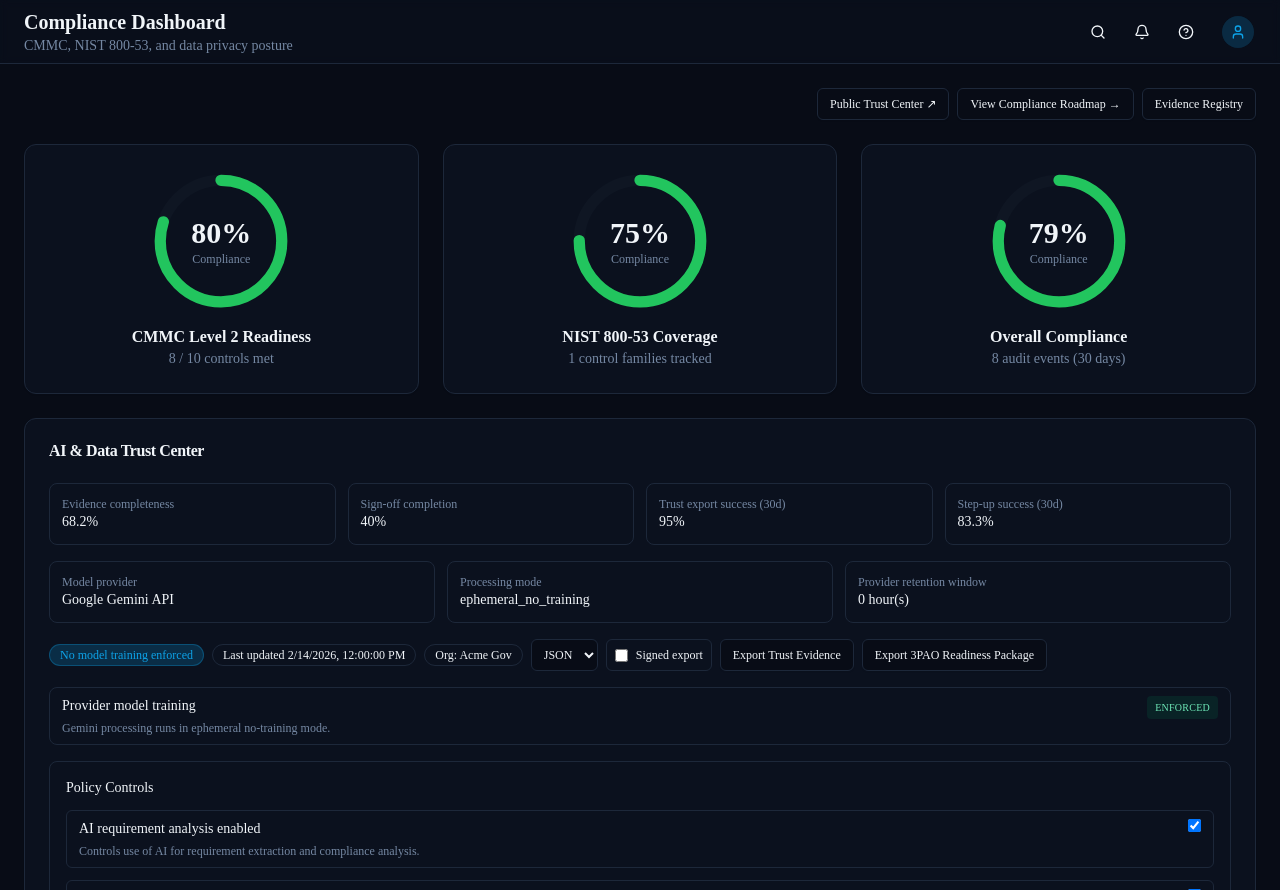
it: CompliancePage › updates trust center policy controls for admins
The width and height of the screenshot is (1280, 890).
expect the heading "AI & Data Trust Center" is shown: met, box left=49, top=442, right=204, bottom=459
Click the checkbox named "AI requirement analysis toggle" at [1194, 826], box left=1188, top=819, right=1201, bottom=832
(page scrolled)
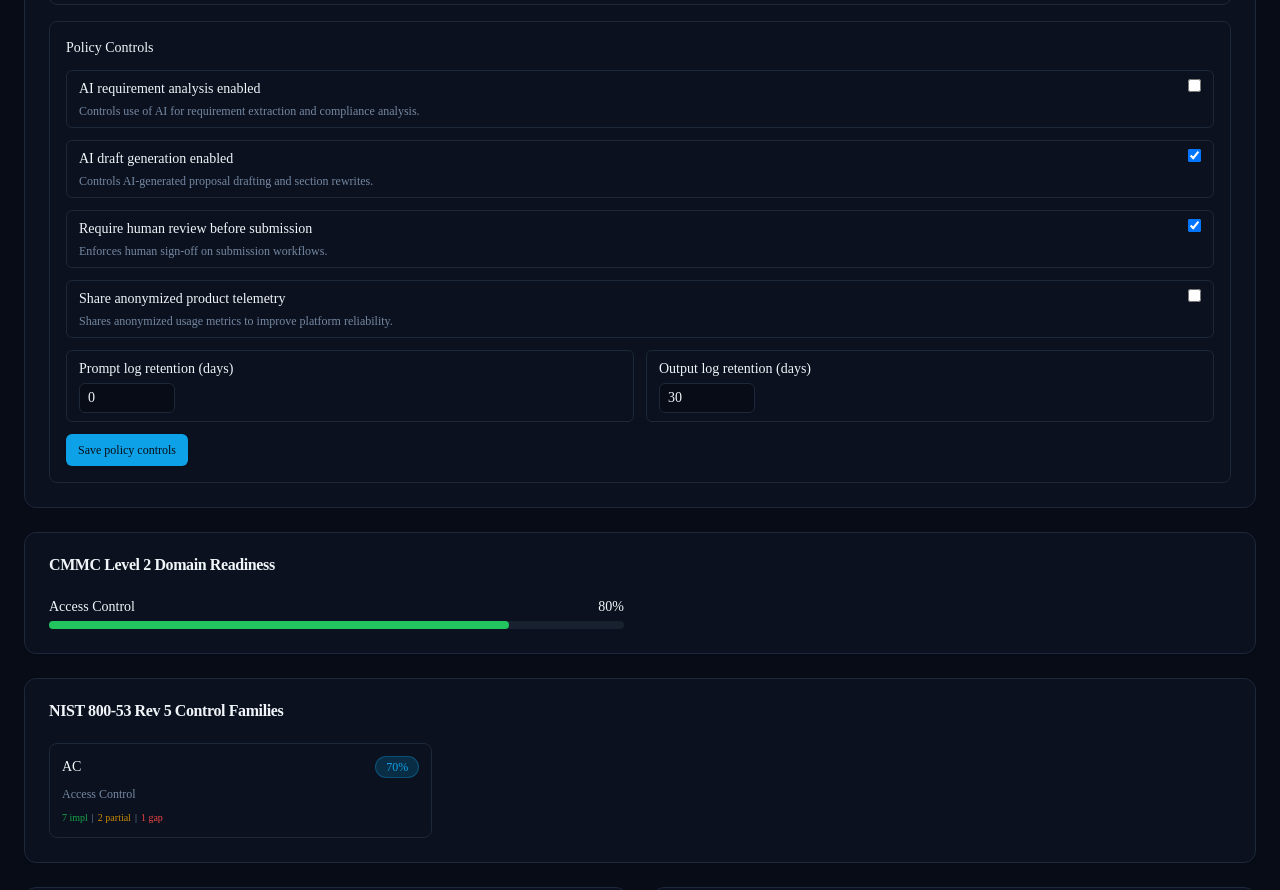
Click the button "Save policy controls" at [127, 450], box left=66, top=434, right=188, bottom=466
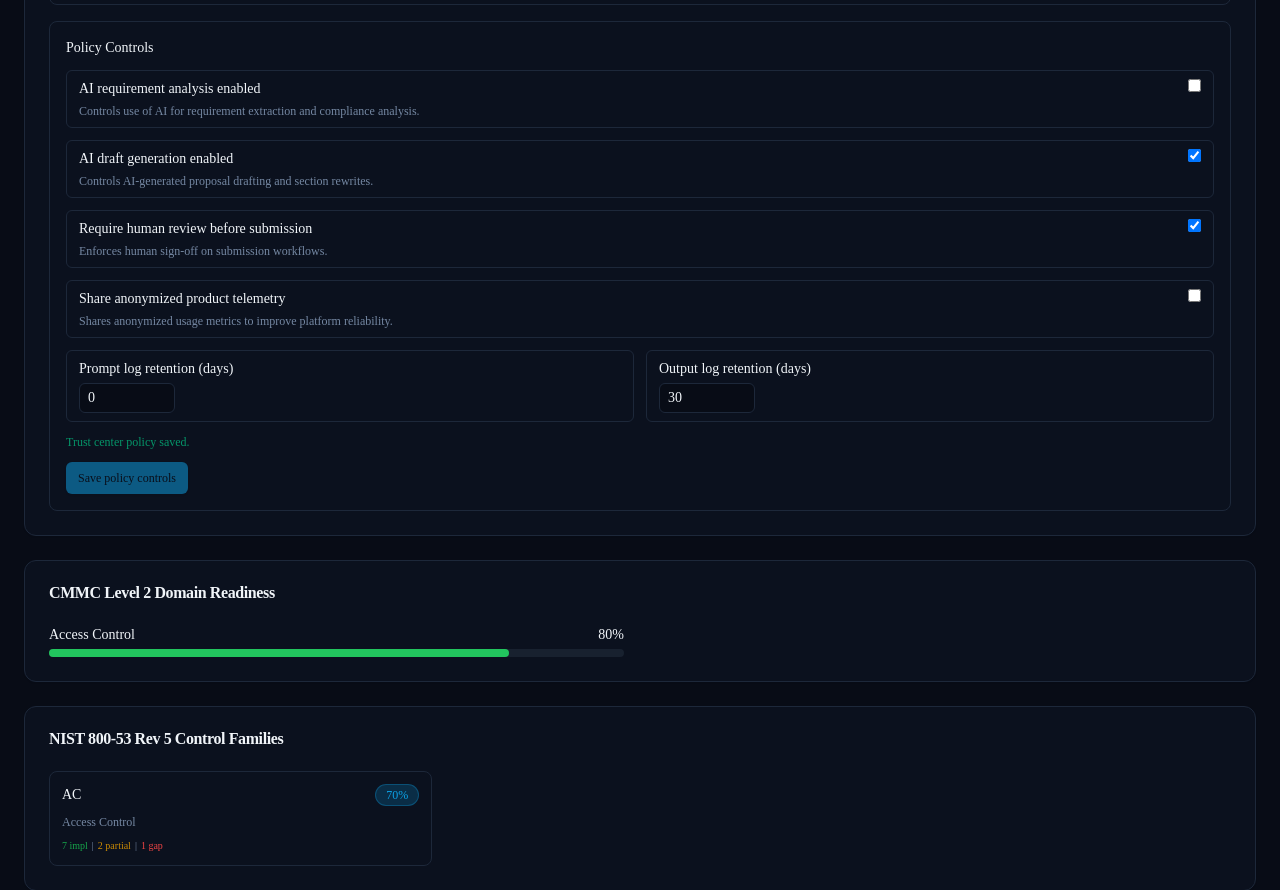
expect the text "Trust center policy saved." is shown: met, box left=66, top=435, right=190, bottom=449
